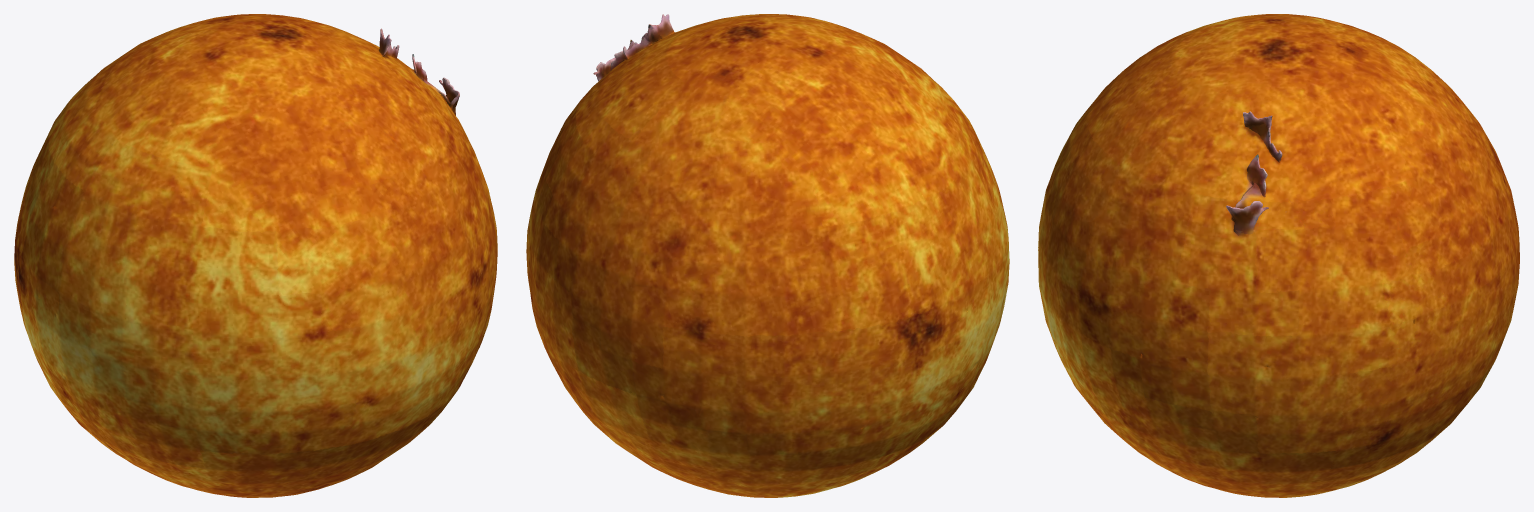
The model's file is c2_sun.glb.
The picture shows the model from 3 angles, left to right: view 1: azimuth 30°, elevation 25°; view 2: azimuth 150°, elevation 25°; view 3: azimuth 270°, elevation 25°; orthographic projection.
Visible parts, largest first — view 1: geometry_0; view 2: geometry_0; view 3: geometry_0.
Part boxes in pixels (x1,y1,x2,y2): geometry_0: (14,14,497,497); geometry_0: (526,14,1009,497); geometry_0: (1038,14,1519,497).
Size of the model in its own units: 0.3 by 0.3009 by 0.3004.
Materials: 1 (1 with a texture image).
